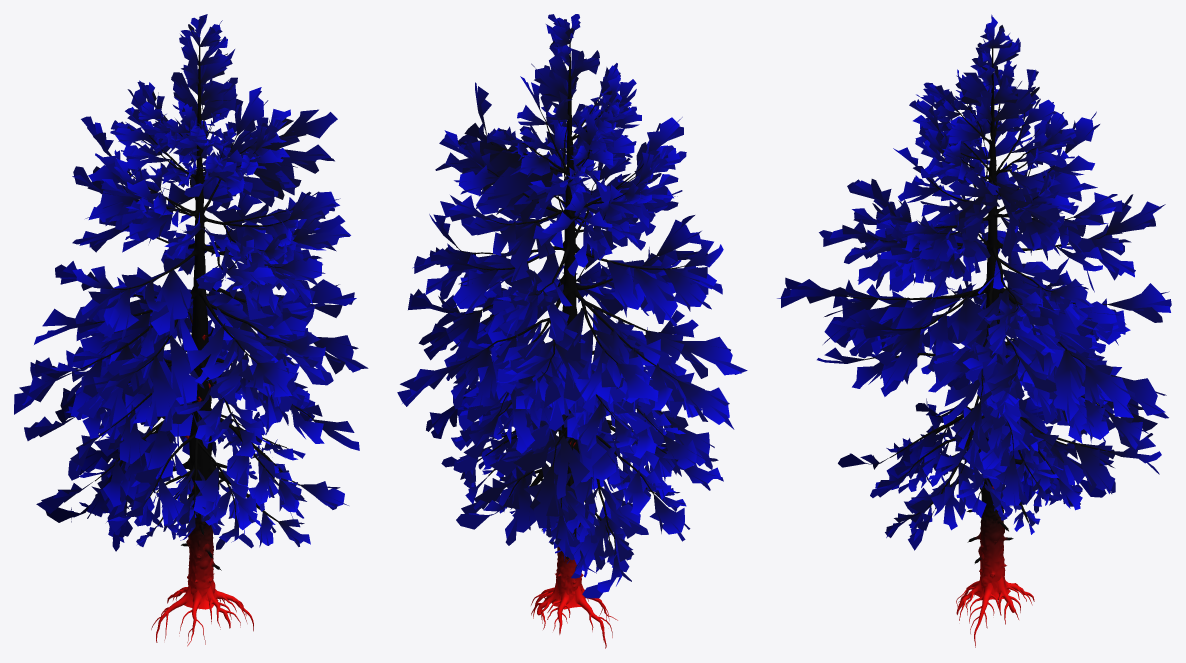
File: SM_SilverFir_04.fbx
The picture shows the model from 3 angles, left to right: view 1: azimuth 30°, elevation 25°; view 2: azimuth 150°, elevation 25°; view 3: azimuth 270°, elevation 25°; orthographic projection. The views are drawn at different scales.
Parts seen in each view (by area): view 1: SM_SilverFir_04_LOD0; view 2: SM_SilverFir_04_LOD0; view 3: SM_SilverFir_04_LOD0.
Boxes of the visible parts, x1,y1,x2,y2 form: SM_SilverFir_04_LOD0: (14,14,368,646); SM_SilverFir_04_LOD0: (397,14,747,648); SM_SilverFir_04_LOD0: (777,14,1171,647).
Bounding box in the file's own units: 911 × 954 × 1621.
